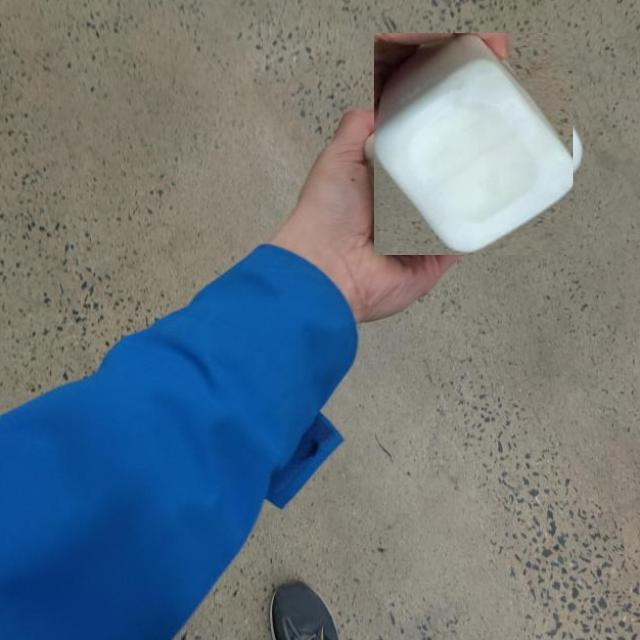Milk: (374, 33, 573, 255)
